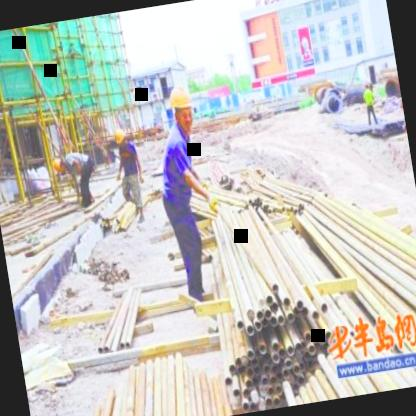helmet: (164, 76, 198, 137), (46, 151, 67, 176), (111, 124, 129, 148)
